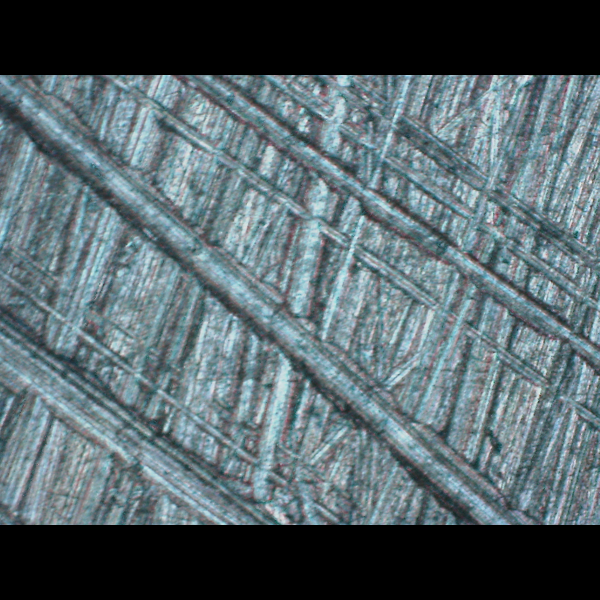d: (10, 75, 600, 515)
